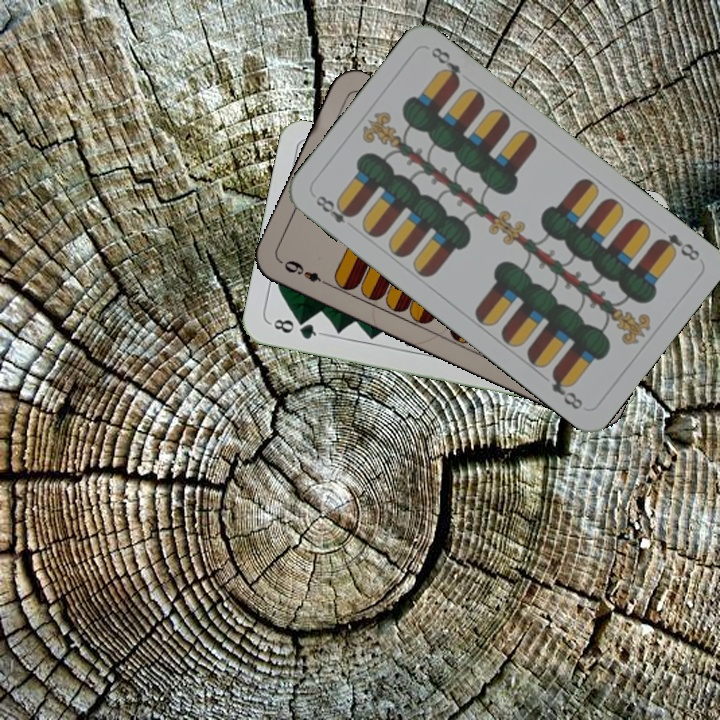E8: (652, 229, 703, 264), (311, 191, 358, 226)
E9: (280, 256, 333, 289)
G8: (266, 315, 325, 342)
